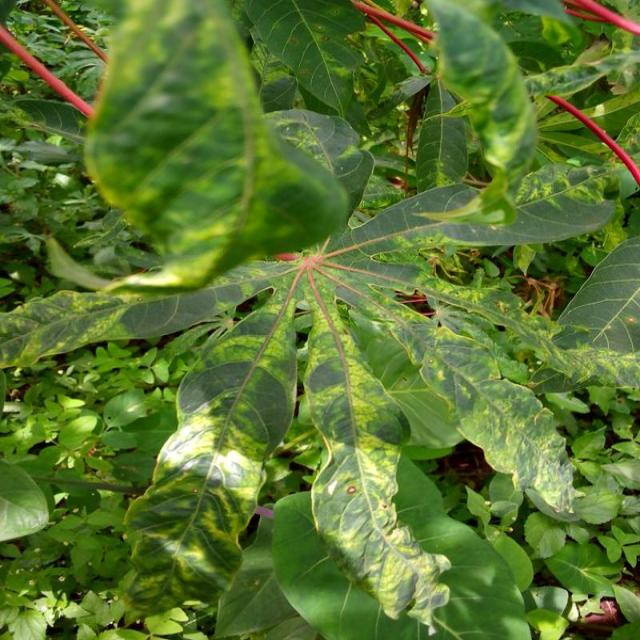cassava leaf: (4, 1, 638, 637), (82, 0, 356, 291), (123, 296, 300, 618), (303, 280, 454, 630)
